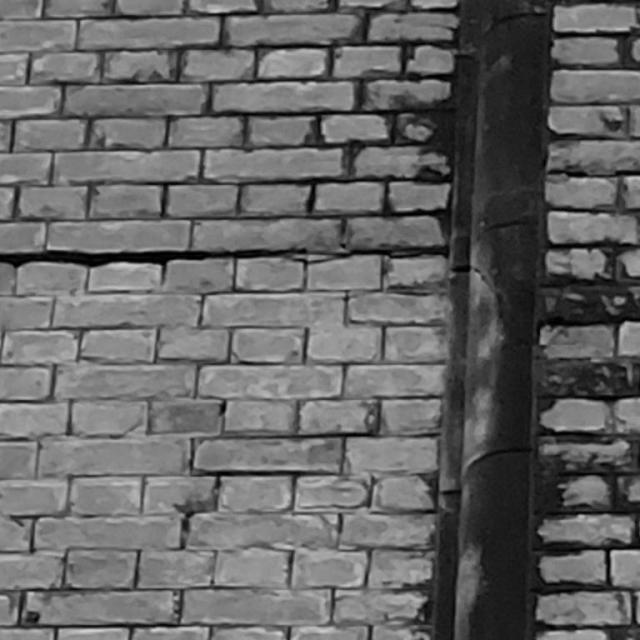crack: (1, 248, 352, 270)
